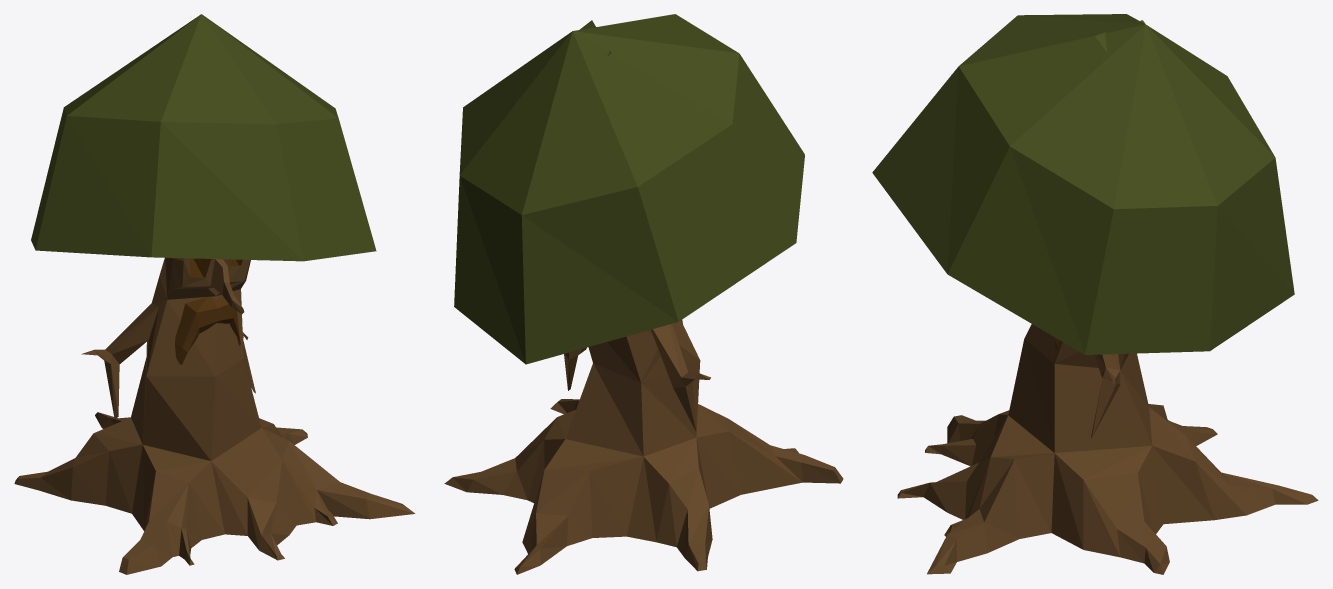
The model's file is spirit-tree.gltf.
The picture shows the model from 3 angles, left to right: view 1: azimuth 30°, elevation 25°; view 2: azimuth 150°, elevation 25°; view 3: azimuth 270°, elevation 25°; orthographic projection. The views are drawn at different scales.
Bounding box in the file's own units: 255 × 338 × 279.
Materials: 1 (1 with a texture image).
